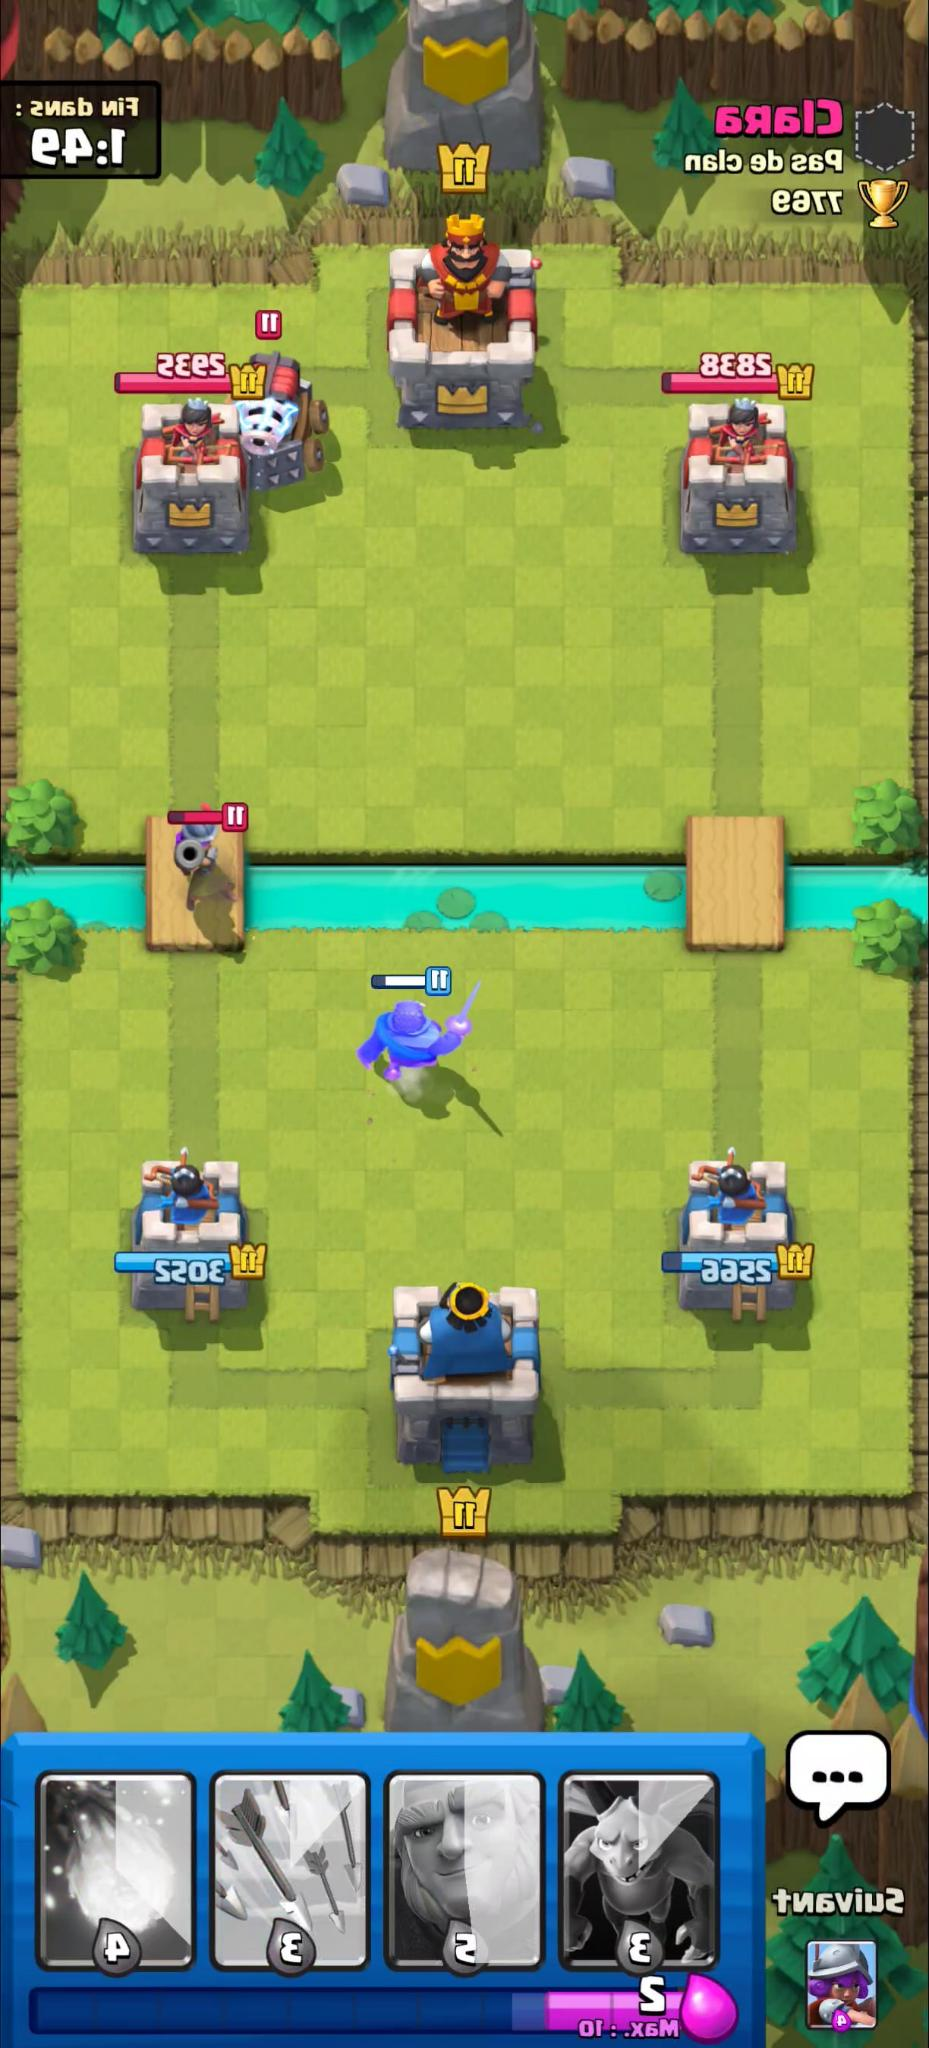chevalier: (350, 981, 481, 1085)
mousquetaire: (174, 818, 239, 914)
zappy: (221, 342, 328, 495)
